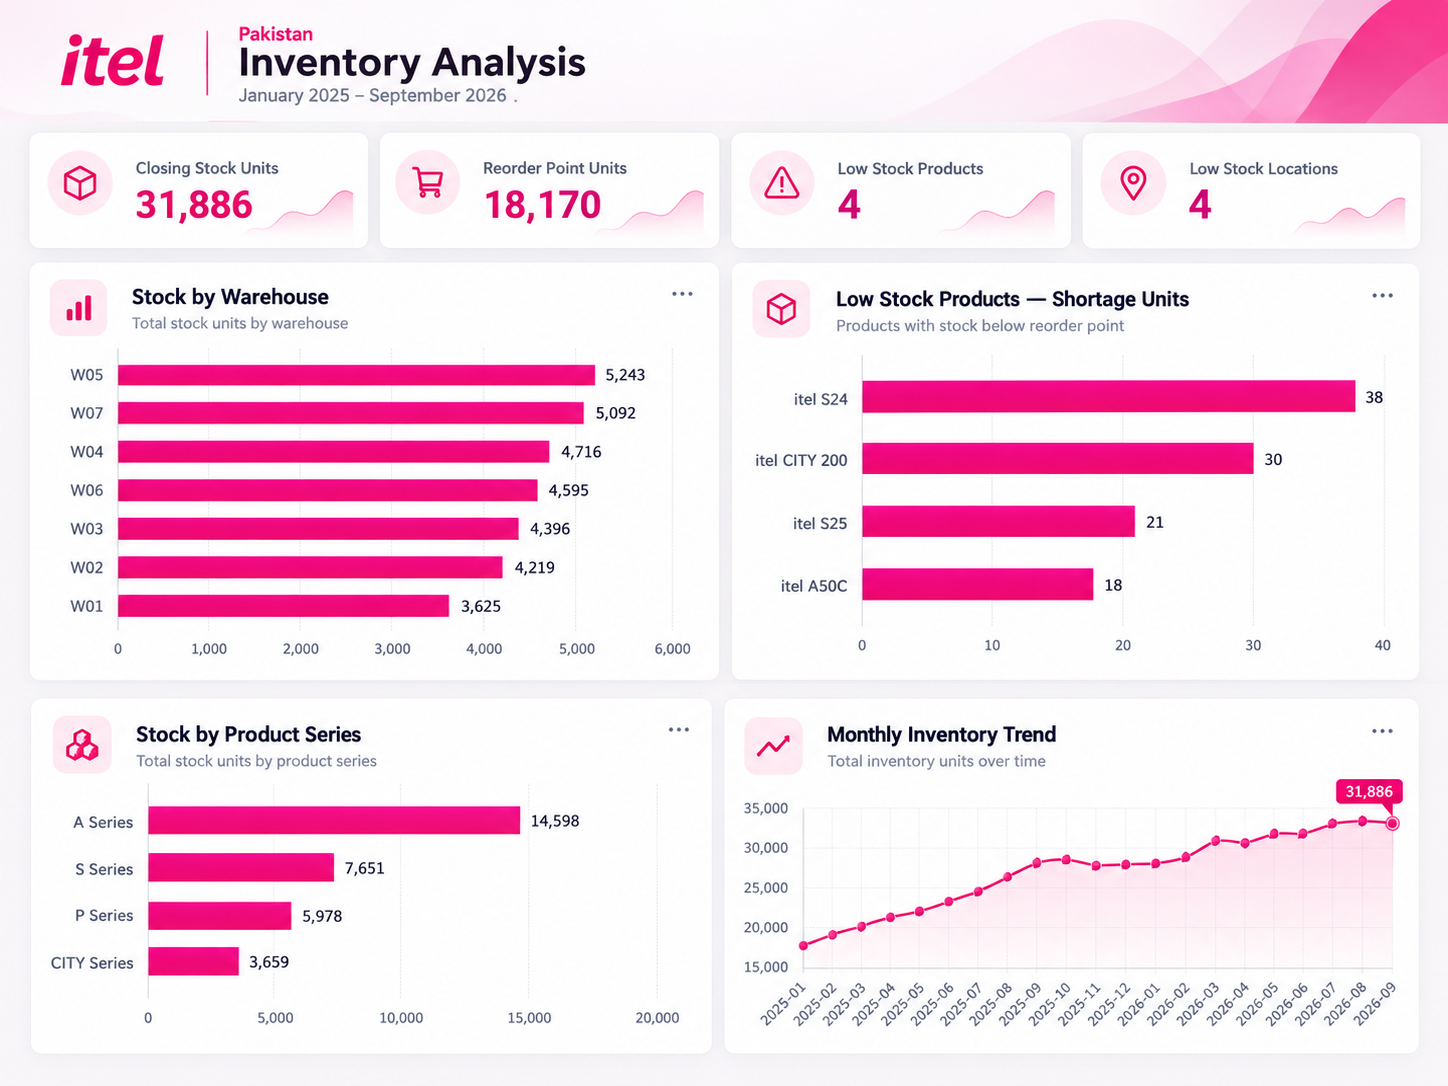

This screenshot's page, from the dashboard's own definition file:
{"tool":"powerbi","page":{"name":"Inventory Analysis Dashboard","canvas":[2500,2200],"ordinal":4},"visuals":[{"type":"cardVisual","fields":{"Data":["All_Measures.Closing Stock Units"]},"box":[63,80.4,334.8,147.8],"z":0},{"type":"cardVisual","fields":{"Data":["All_Measures.Reorder Point Units"]},"box":[417.4,80.4,334.8,147.8],"z":1},{"type":"cardVisual","fields":{"Data":["All_Measures.Low Stock Products"]},"box":[771.7,80.4,334.8,147.8],"z":2},{"type":"cardVisual","fields":{"Data":["All_Measures.Low Stock Locations"]},"box":[1126.1,80.4,334.8,163],"z":3},{"type":"clusteredBarChart","title":"Stock by Warehouse","fields":{"Category":["DimWarehouses_Stage.WarehouseID"],"Y":["All_Measures.Closing Stock Units"]},"box":[63,243.5,773.9,515.2],"z":4},{"type":"clusteredBarChart","title":"Low Stock Products — Shortage Units","fields":{"Category":["DimProducts_Stage.ModelName"],"Y":["All_Measures.Low Stock Shortage Units"]},"box":[863,243.5,774,515],"z":5},{"type":"clusteredBarChart","title":"Stock by Product Series","fields":{"Category":["DimProducts_Stage.Series"],"Y":["All_Measures.Closing Stock Units"]},"box":[63,773.9,628.3,484.8],"z":6},{"type":"lineChart","title":"Monthly Inventory Trend","fields":{"Category":["DimDate_Stage.YearMonth"],"Y":["All_Measures.Monthly Closing Stock Units"]},"box":[708.7,776.1,928.3,484.8],"z":7}]}

Visuals, with their boxes on the page's 2500x2200 design canvas (x1, y1, x2, y2). These are canvas units, not pixel positions in the 1448x1086 screenshot, which may show the page scaled, cropped or inside an application window:
cardVisual - All_Measures.Closing Stock Units: (63,80,398,228)
cardVisual - All_Measures.Reorder Point Units: (417,80,752,228)
cardVisual - All_Measures.Low Stock Products: (772,80,1106,228)
cardVisual - All_Measures.Low Stock Locations: (1126,80,1461,243)
"Stock by Warehouse" clusteredBarChart: (63,244,837,759)
"Low Stock Products — Shortage Units" clusteredBarChart: (863,244,1637,758)
"Stock by Product Series" clusteredBarChart: (63,774,691,1259)
"Monthly Inventory Trend" lineChart: (709,776,1637,1261)
